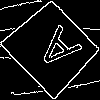A: (27, 23, 83, 80)
